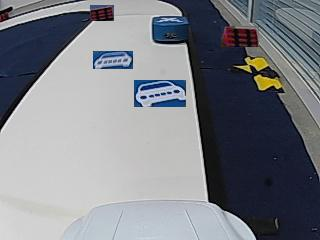prop: (152, 16, 190, 45)
